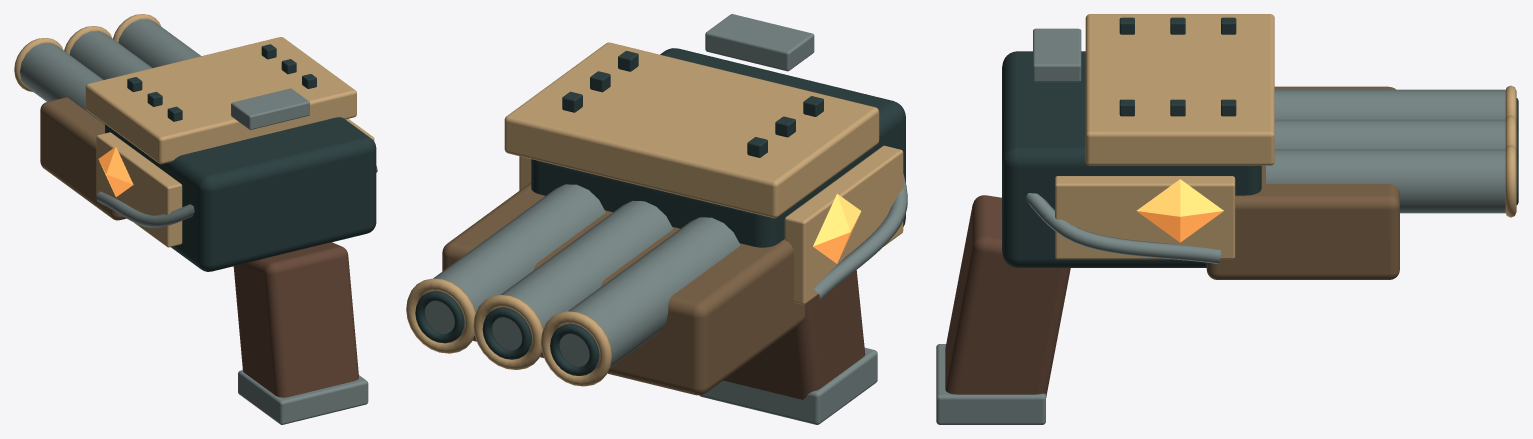
3 renders of one model, left to right at view 1: azimuth 30°, elevation 25°; view 2: azimuth 150°, elevation 25°; view 3: azimuth 270°, elevation 25°, orthographic. The views are drawn at different scales.
Parts seen in each view (by area): view 1: heavy relic chamber, five-shot top rail, short walnut grip, relic scatter barrel (×3), wide muzzle shroud, reinforced chamber cheek, grip heel, rear sight, heat pipe, muzzle rim (×3), ember chamber lens; view 2: five-shot top rail, relic scatter barrel (×3), wide muzzle shroud, heavy relic chamber, short walnut grip, reinforced chamber cheek, muzzle rim (×3), grip heel, rear sight, muzzle bore (×3), heat pipe, ember chamber lens; view 3: five-shot top rail, relic scatter barrel (×3), heavy relic chamber, wide muzzle shroud, short walnut grip, reinforced chamber cheek, grip heel, heat pipe, ember chamber lens, rear sight, muzzle rim.
Part boxes in pixels (x1,y1,x2,y2): heavy relic chamber: [105, 117, 376, 271]; five-shot top rail: [85, 37, 356, 164]; short walnut grip: [233, 242, 358, 397]; relic scatter barrel (×3): [20, 19, 201, 124]; wide muzzle shroud: [40, 97, 126, 220]; reinforced chamber cheek: [96, 132, 182, 247]; grip heel: [238, 370, 368, 424]; rear sight: [231, 88, 309, 129]; heat pipe: [96, 191, 194, 227]; muzzle rim (×3): [14, 14, 160, 92]; ember chamber lens: [98, 146, 133, 196]; five-shot top rail: [504, 42, 879, 218]; relic scatter barrel (×3): [424, 184, 740, 371]; wide muzzle shroud: [442, 182, 805, 395]; heavy relic chamber: [531, 48, 905, 247]; short walnut grip: [723, 270, 865, 399]; reinforced chamber cheek: [784, 145, 903, 304]; muzzle rim (×3): [406, 278, 611, 386]; grip heel: [699, 347, 877, 424]; rear sight: [705, 14, 814, 71]; muzzle bore (×3): [415, 291, 598, 375]; heat pipe: [813, 173, 907, 300]; ember chamber lens: [813, 194, 861, 263]; five-shot top rail: [1085, 14, 1274, 165]; relic scatter barrel (×3): [1266, 89, 1505, 213]; heavy relic chamber: [1002, 51, 1261, 267]; wide muzzle shroud: [1206, 86, 1399, 279]; short walnut grip: [945, 195, 1070, 397]; reinforced chamber cheek: [1055, 176, 1235, 259]; grip heel: [936, 344, 1045, 424]; heat pipe: [1025, 193, 1221, 264]; ember chamber lens: [1136, 179, 1223, 242]; rear sight: [1033, 28, 1081, 82]; muzzle rim: [1505, 145, 1516, 217].
Bounding box in the file's own units: 0.754 × 0.876 × 1.32.
